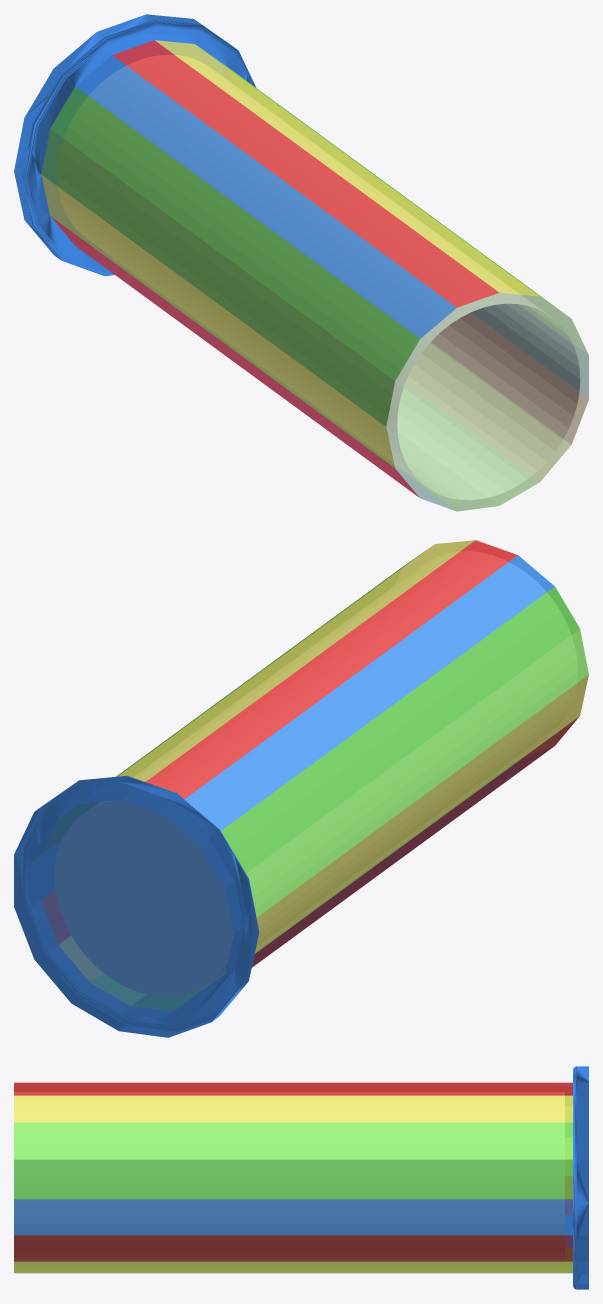
The model's file is model_align.obj.
The picture shows the model from 3 angles, top to bottom: view 1: azimuth 30°, elevation 25°; view 2: azimuth 150°, elevation 25°; view 3: azimuth 270°, elevation 25°; orthographic projection. The views are drawn at different scales.
Size of the model in its own units: 0.0888 by 0.0893 by 0.2301.
